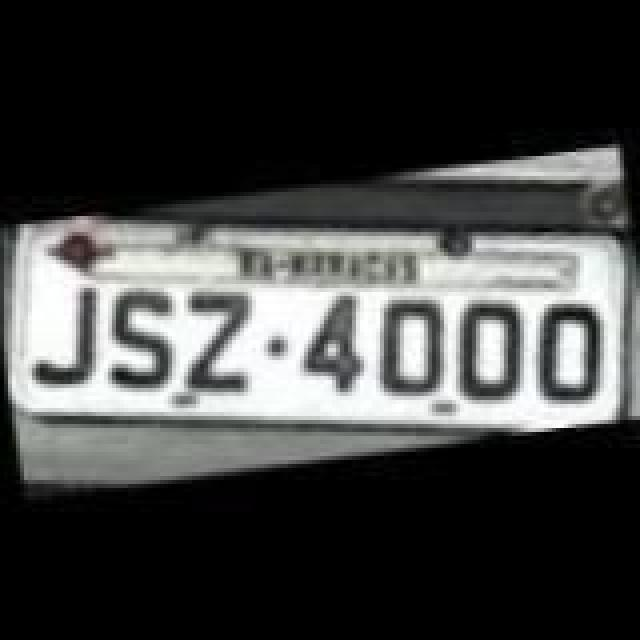4: (286, 286, 374, 406)
J: (24, 286, 108, 394)
O: (522, 298, 618, 414), (364, 290, 456, 406), (444, 296, 536, 408)
S: (92, 280, 184, 400)
Z: (174, 286, 262, 394)
